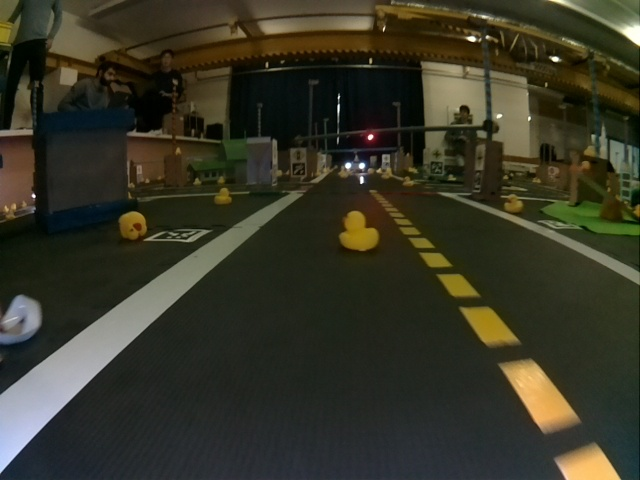Duckie: (339, 210, 380, 251), (118, 211, 147, 240), (504, 194, 523, 211), (216, 188, 229, 204), (403, 176, 412, 186), (585, 146, 595, 155), (193, 178, 202, 184)
Duckiebot: (344, 159, 366, 174)
QR code: (156, 229, 207, 242), (473, 169, 483, 190), (292, 163, 305, 175)
Traffic light: (366, 133, 376, 142)
